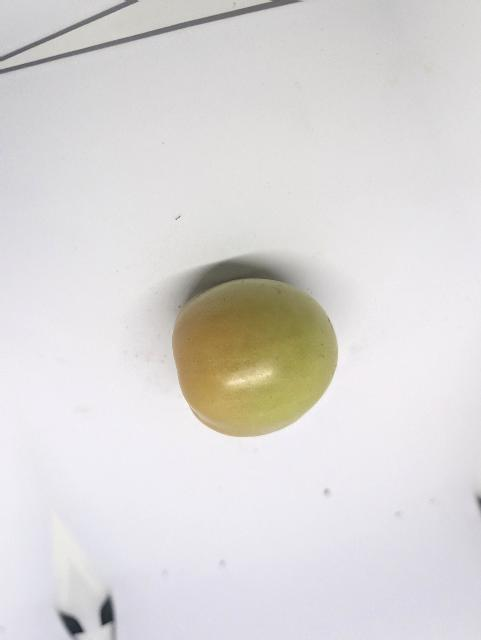breaker: (173, 279, 338, 436)
